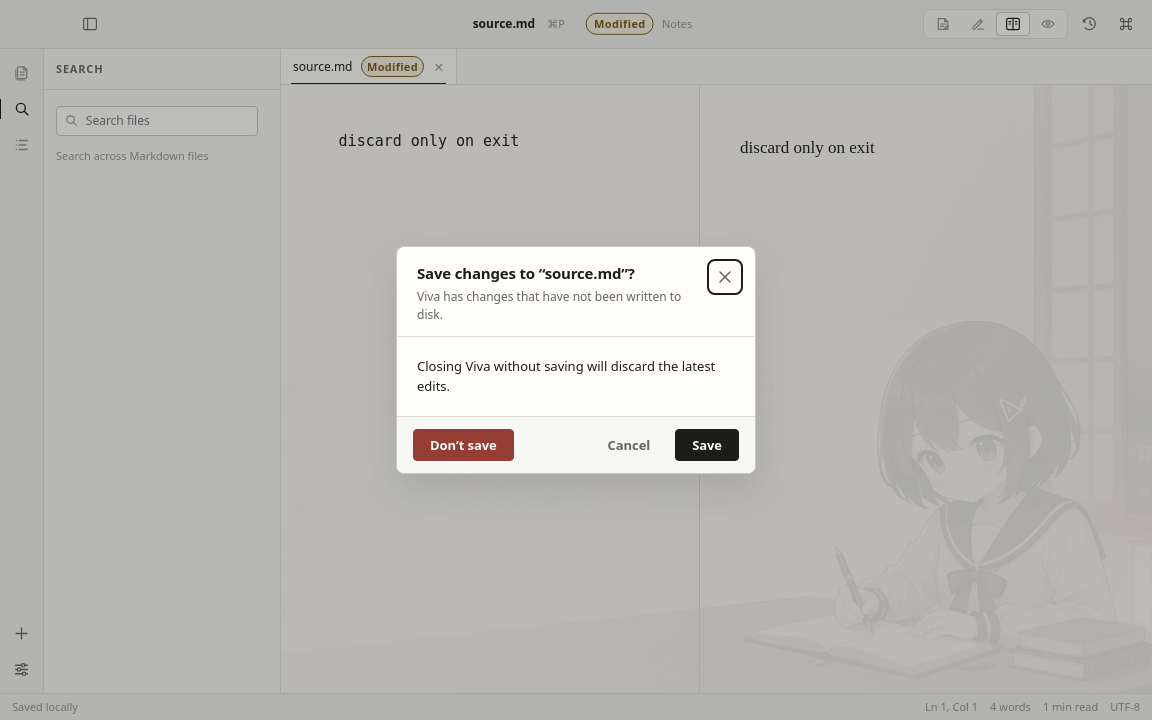
App search navigation › keeps the final discarded draft when native quit confirmation fails
Click the button "Don’t save".
click(463, 445)  # box [413,429,514,461]
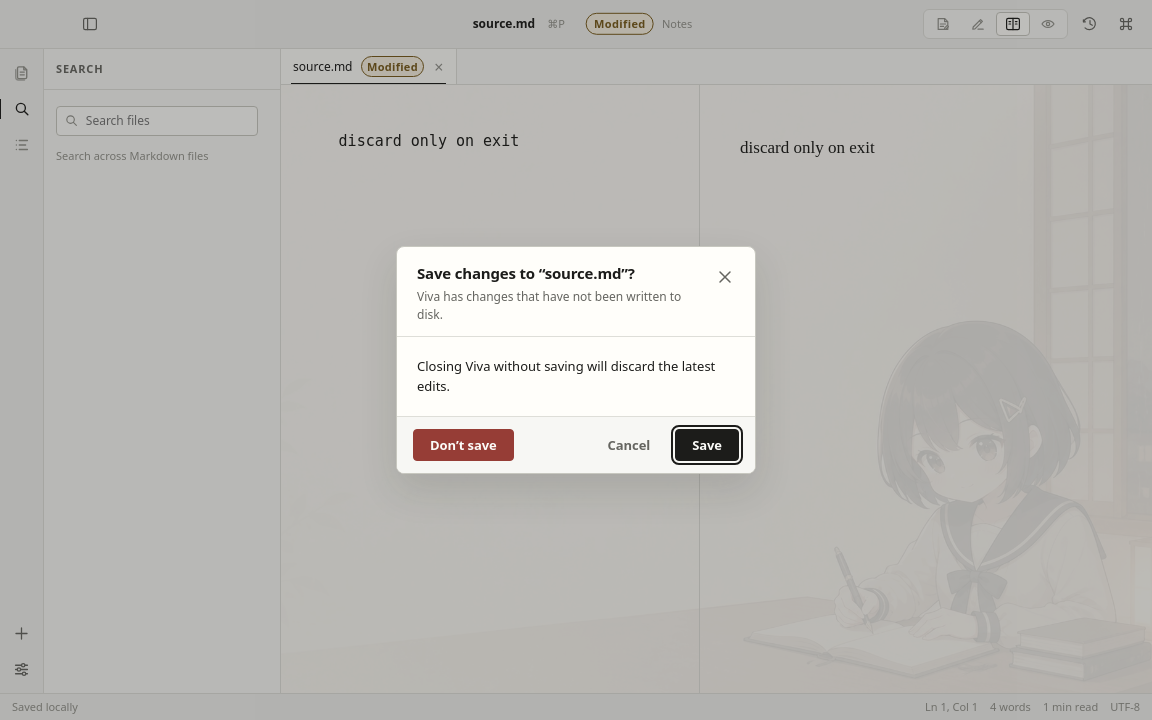
Expected: the dialog "Save changes to “source.md”?" is shown, [396,246,756,474]
Click the button "Don’t save".
click(463, 445)  # box [413,429,514,461]
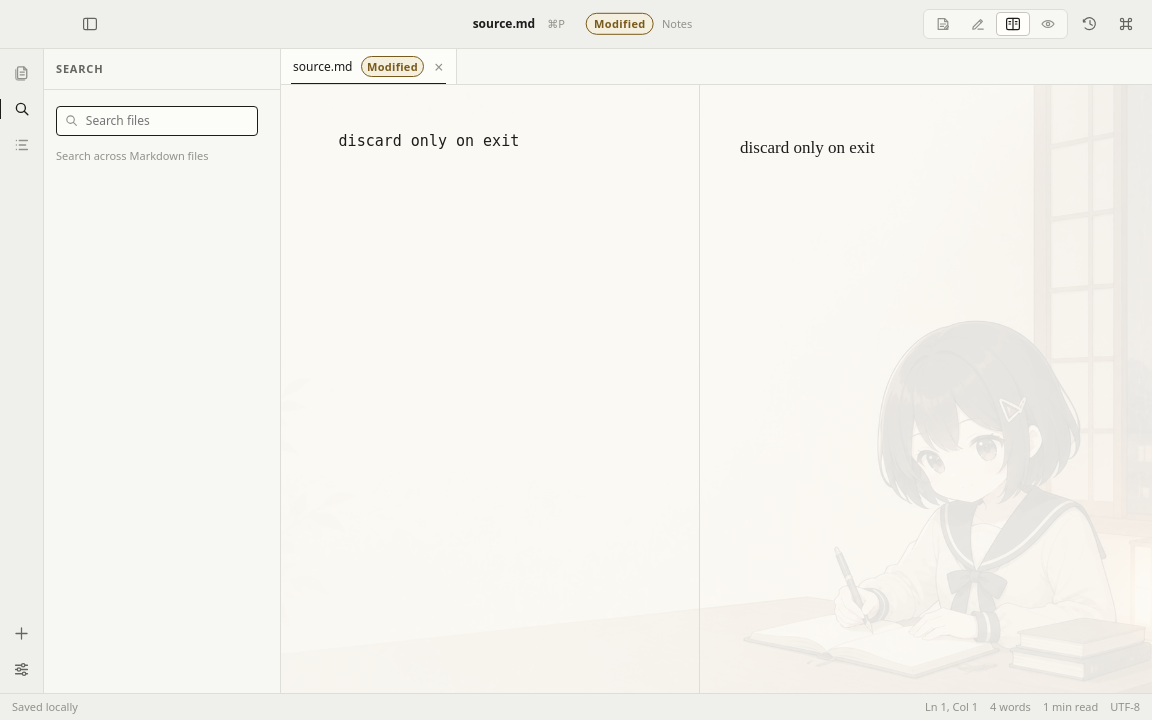
Expected: the dialog is gone
